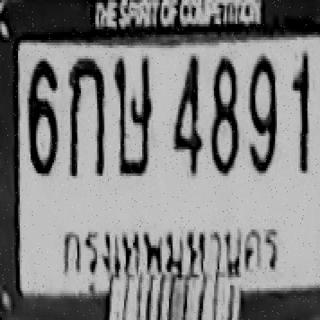A01: (68, 56, 104, 176)
A39: (113, 56, 153, 176)
N01: (291, 52, 309, 172)
N04: (172, 53, 202, 176)
N06: (27, 59, 58, 176)
N08: (210, 58, 239, 174)
N09: (248, 53, 277, 173)
P04: (60, 217, 282, 279)
